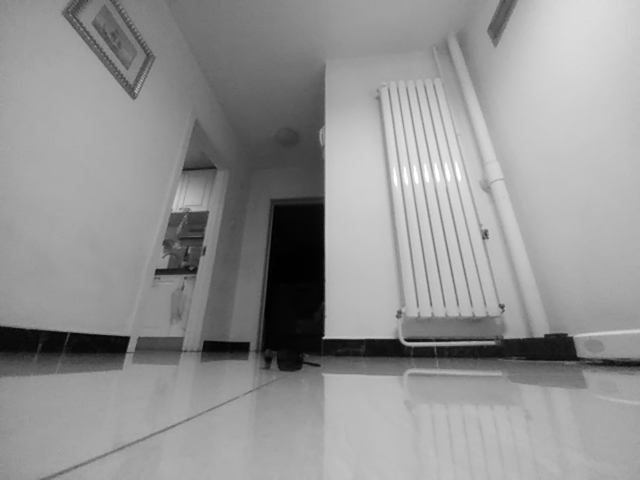others: (262, 348, 323, 372)
